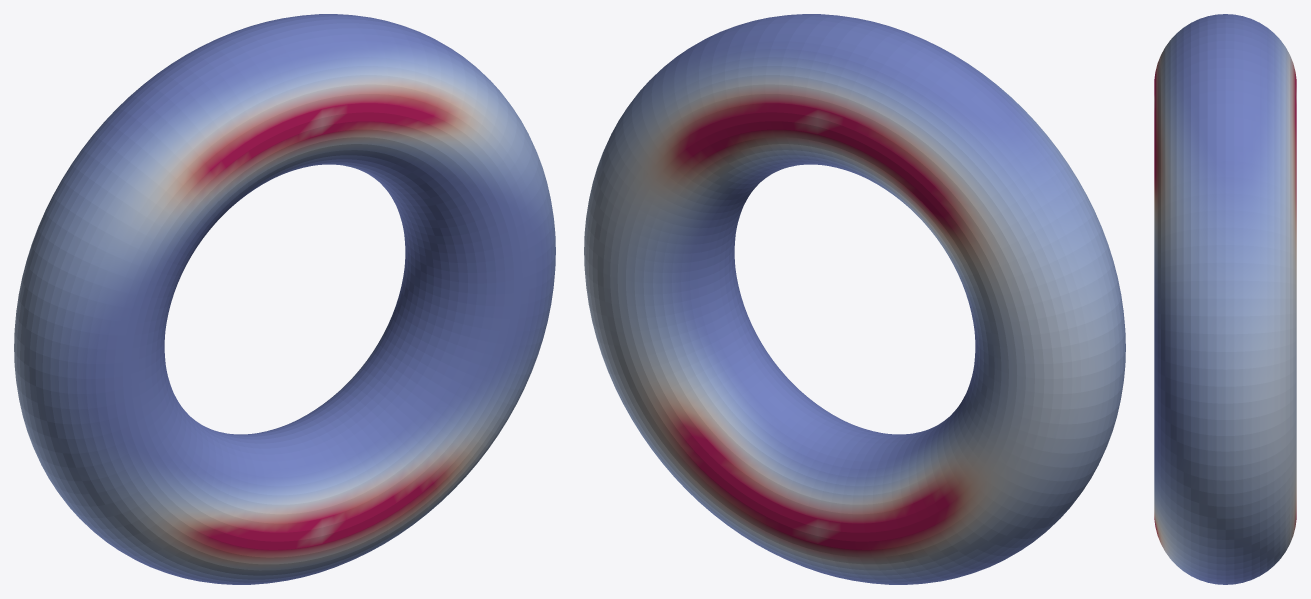
3 views of the same model, side by side, from view 1: azimuth 30°, elevation 25°; view 2: azimuth 150°, elevation 25°; view 3: azimuth 270°, elevation 25° (orthographic). The views are drawn at different scales.
Parts seen in each view (by area): view 1: world; view 2: world; view 3: world.
Part boxes in pixels (x1,y1,x2,y2): world: (14, 14, 555, 584); world: (584, 14, 1125, 584); world: (1154, 14, 1296, 584).
Size of the model in its own units: 18.67 by 18.67 by 4.66.
